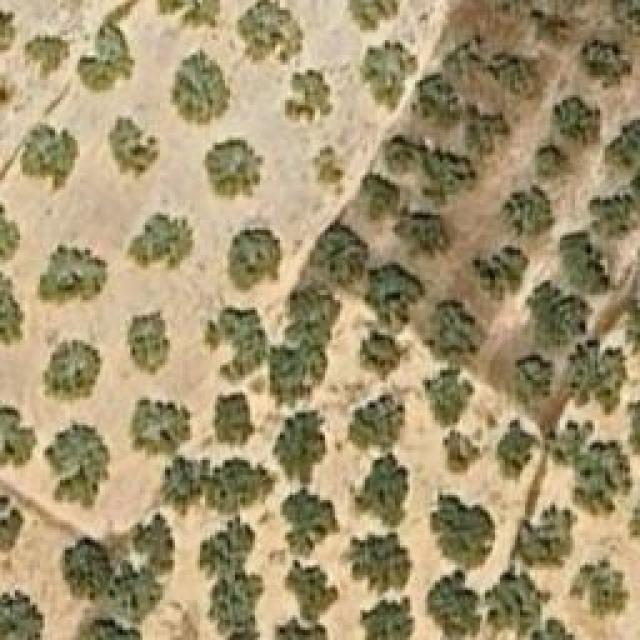Tree: (550, 420, 633, 518), (42, 418, 110, 513), (485, 572, 575, 640), (165, 50, 230, 128), (203, 308, 275, 377), (340, 527, 413, 595), (433, 495, 496, 570), (525, 282, 593, 350), (35, 245, 108, 308), (565, 338, 625, 413), (275, 488, 341, 556), (125, 213, 195, 273), (203, 138, 266, 203), (20, 122, 80, 190), (425, 570, 483, 640), (365, 262, 423, 331), (268, 343, 330, 406), (130, 393, 192, 454), (43, 340, 103, 403), (520, 503, 578, 568), (423, 300, 486, 359), (235, 2, 298, 60), (282, 558, 340, 621), (228, 228, 283, 293), (355, 458, 406, 528), (198, 517, 259, 575), (570, 558, 628, 618), (210, 575, 264, 639), (273, 410, 327, 474), (351, 390, 408, 450), (108, 115, 158, 183), (425, 365, 481, 425), (58, 535, 112, 597), (465, 248, 528, 301), (357, 592, 425, 640), (360, 40, 410, 105), (500, 185, 555, 243), (210, 460, 270, 513), (308, 223, 364, 279), (560, 233, 610, 293), (158, 456, 213, 508), (128, 310, 171, 373), (397, 208, 451, 258), (108, 562, 161, 612), (285, 70, 335, 123), (550, 95, 600, 148), (410, 68, 458, 122), (590, 190, 640, 239), (285, 290, 335, 338), (437, 425, 483, 476), (0, 408, 38, 468), (495, 420, 533, 480), (23, 38, 76, 81), (605, 118, 640, 183), (460, 100, 507, 148), (0, 590, 45, 640), (428, 150, 473, 200), (360, 173, 403, 225), (378, 128, 430, 171), (133, 515, 173, 568), (85, 28, 123, 83), (507, 355, 555, 398), (580, 40, 625, 85), (360, 332, 400, 380), (0, 273, 25, 348), (215, 395, 253, 443), (490, 57, 535, 95), (158, 0, 218, 28), (313, 145, 346, 195), (345, 0, 398, 30), (0, 490, 25, 553), (275, 620, 353, 640), (82, 617, 149, 640), (0, 198, 20, 268), (625, 278, 640, 361), (0, 2, 22, 55), (610, 0, 640, 38), (535, 145, 565, 178), (0, 70, 15, 113)
